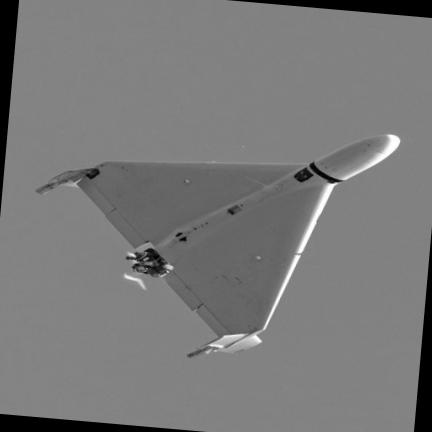Shahed: (37, 133, 399, 358)
